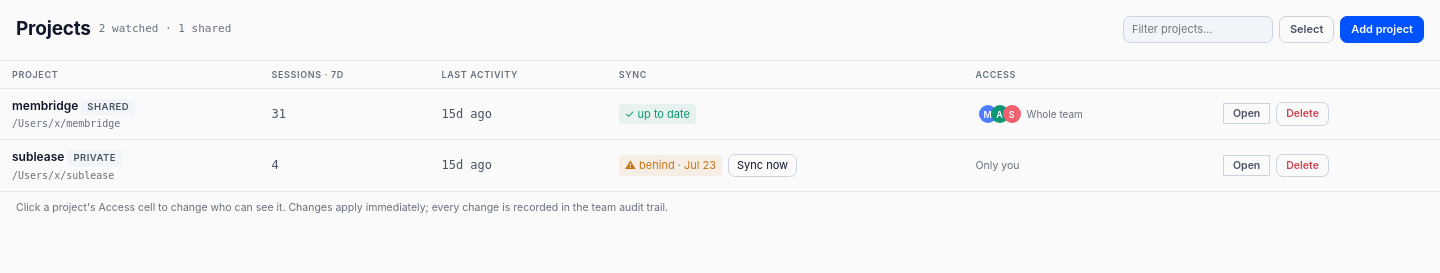
Test: select mode › counts the selection in the action bar
The width and height of the screenshot is (1440, 273).
Expected: the row with test id "project-row-membridge" is shown, [0,88,1439,140]
Step 1. Click the button "Select" → (1307, 29), box [1279,16,1334,42]
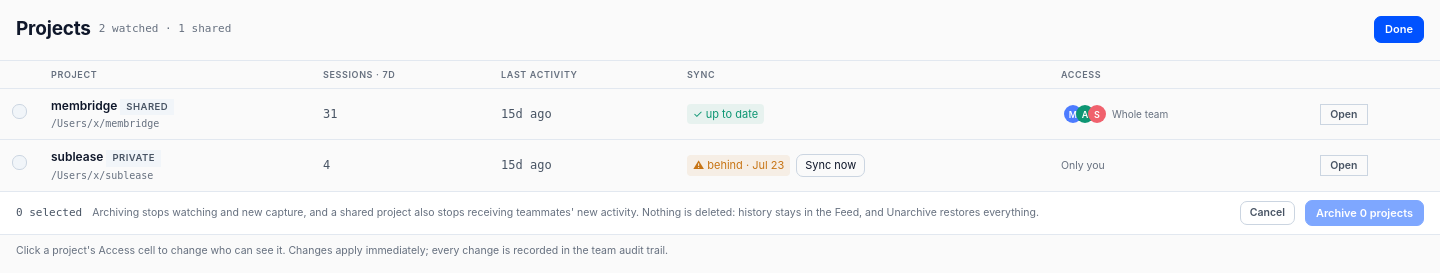
Step 2. Click the checkbox named "select membridge" → (20, 112), box [12,104,27,119]
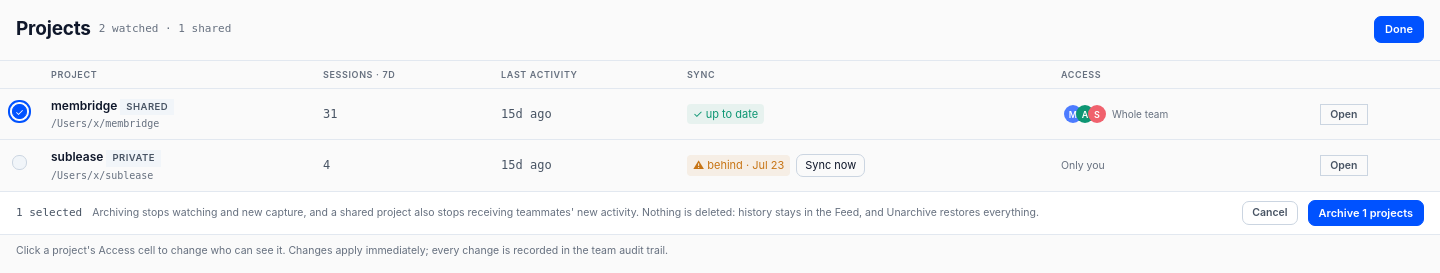
Now the text "1 selected" is shown, box [16,204,82,221]
Step 3. Click the checkbox named "select sublease" → (20, 163), box [12,155,27,170]
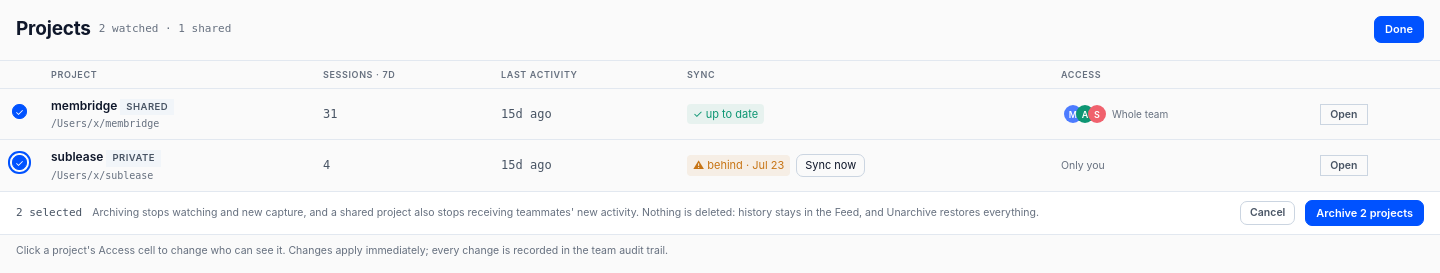
Now the text "2 selected" is shown, box [16,204,82,221]
